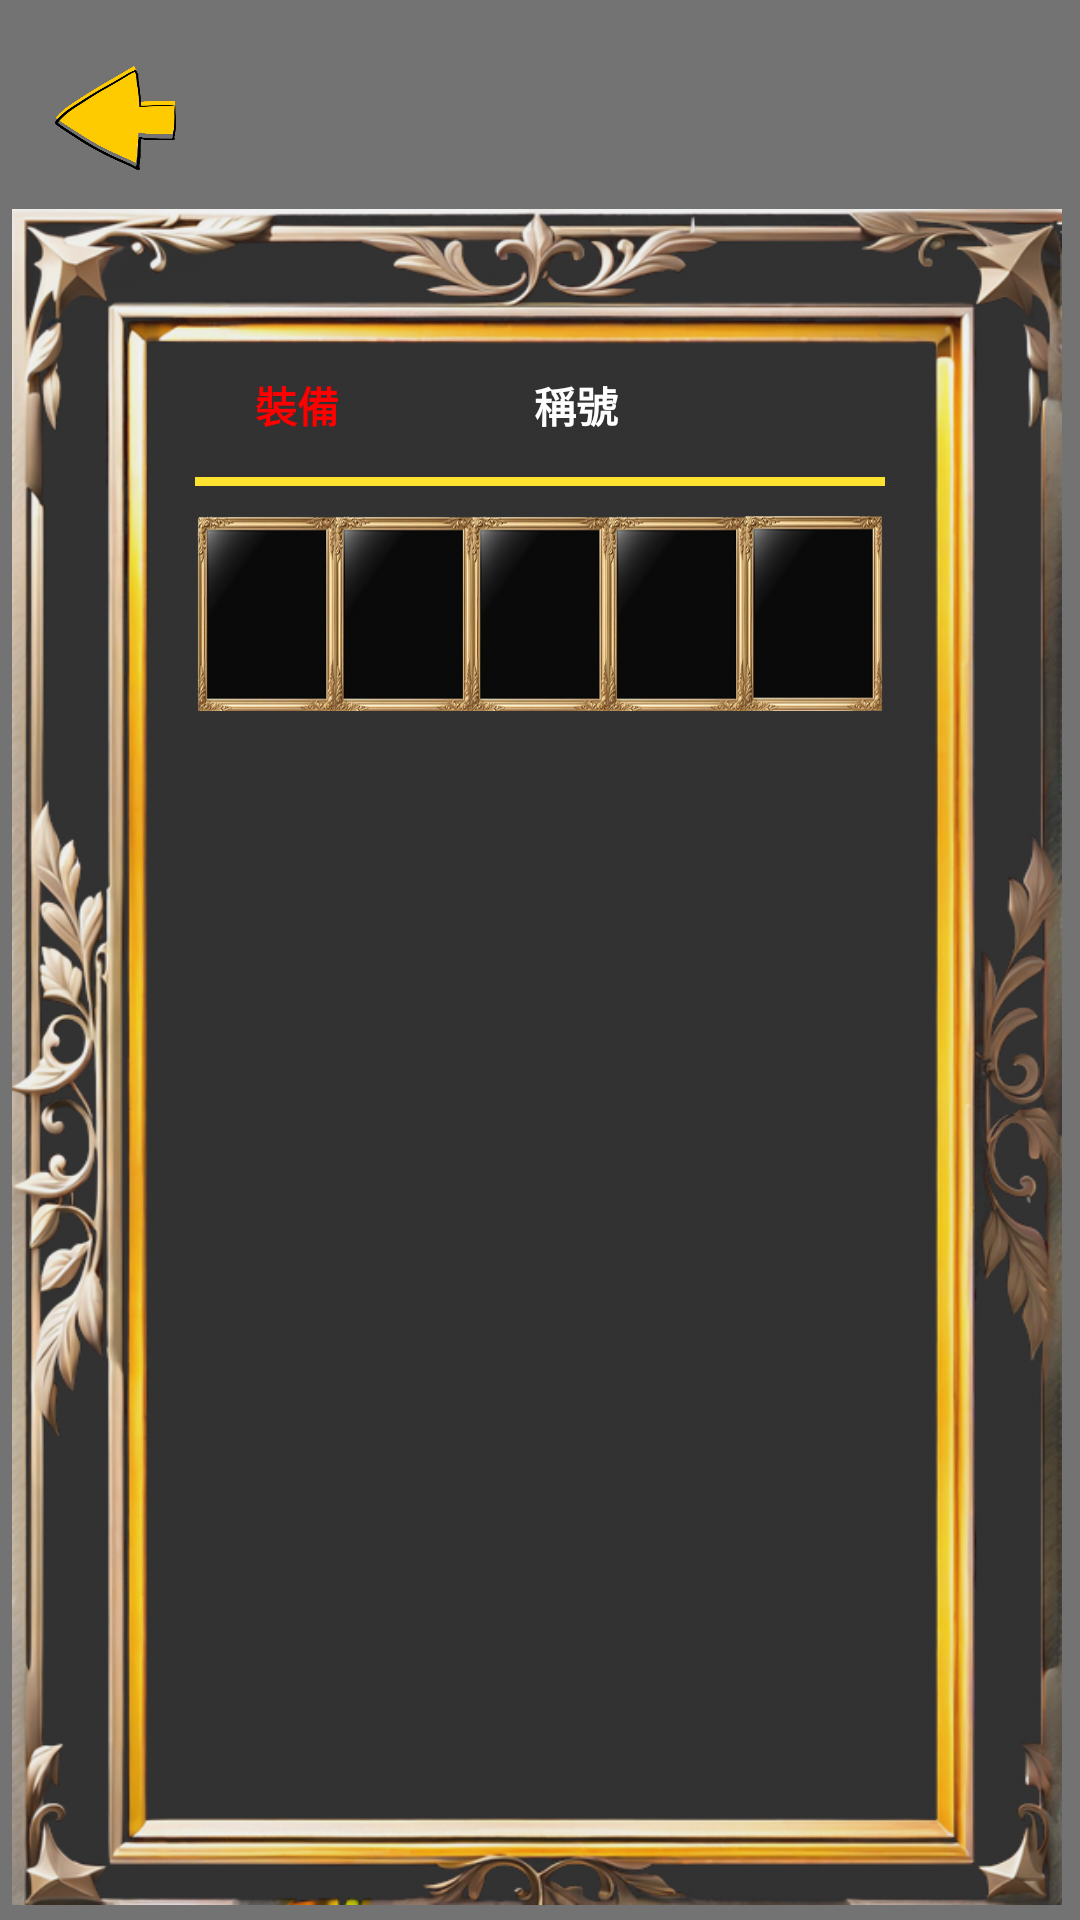

Point at icon controls on the screen. Image size 1080 × 1920, points as (x,y).
back: (115,118)
